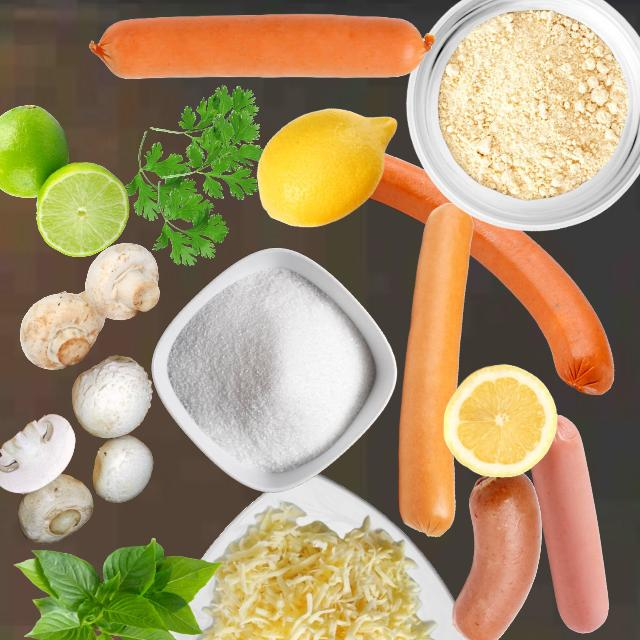Flour: (436, 8, 628, 200)
Sugar: (166, 264, 374, 472)
